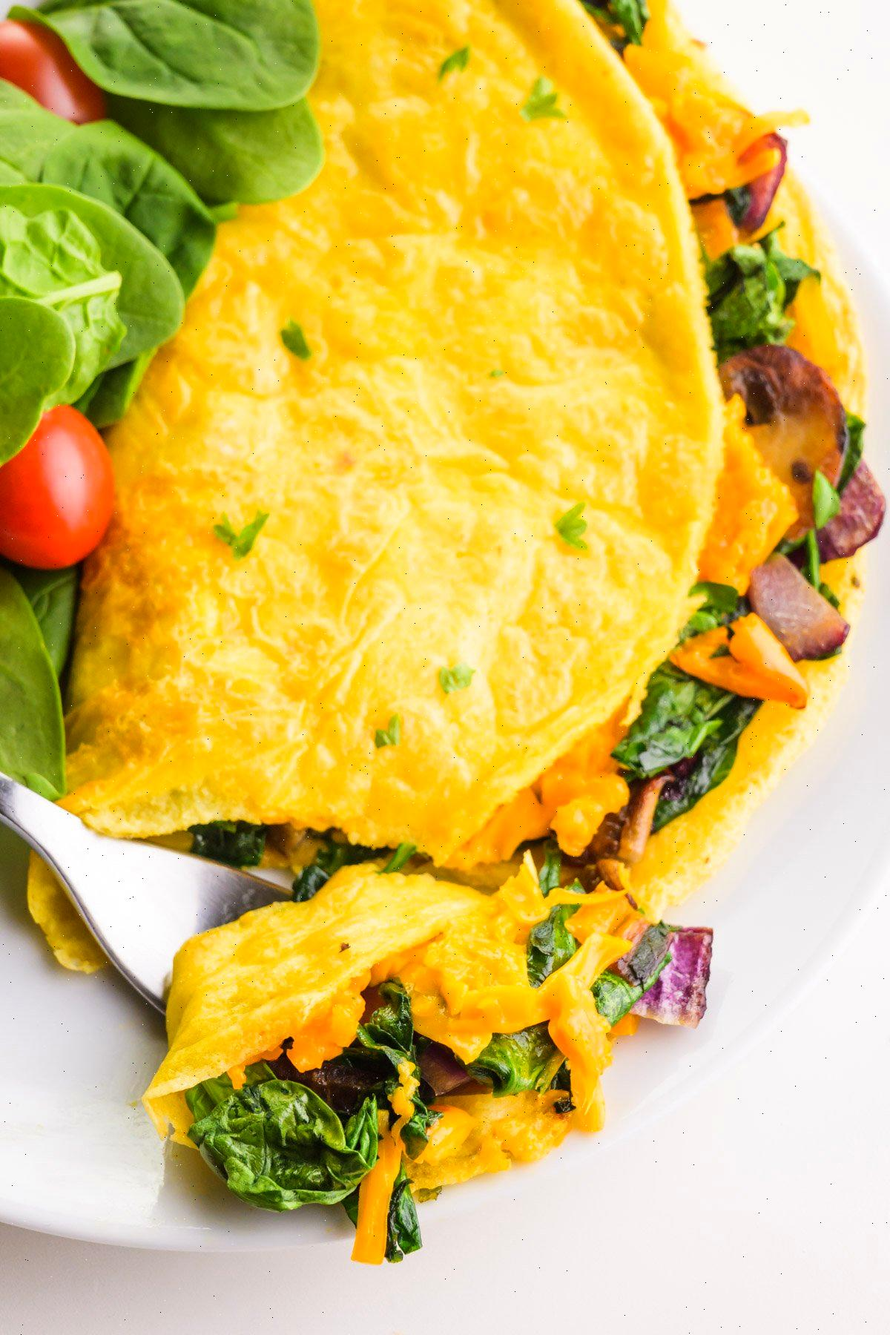omelette: (186, 0, 868, 1152)
